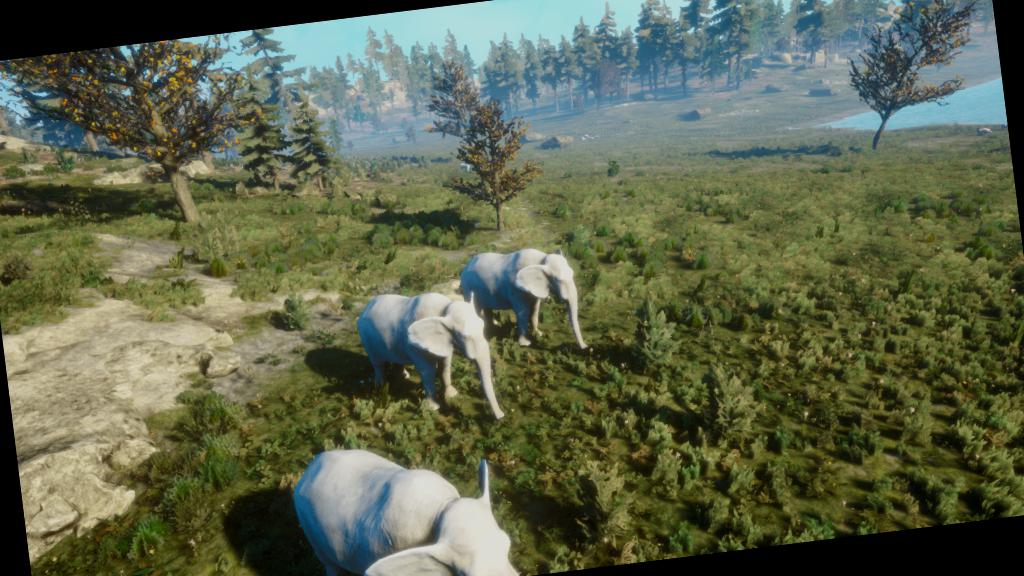elephant: (348, 268, 510, 448), (448, 226, 611, 374)
